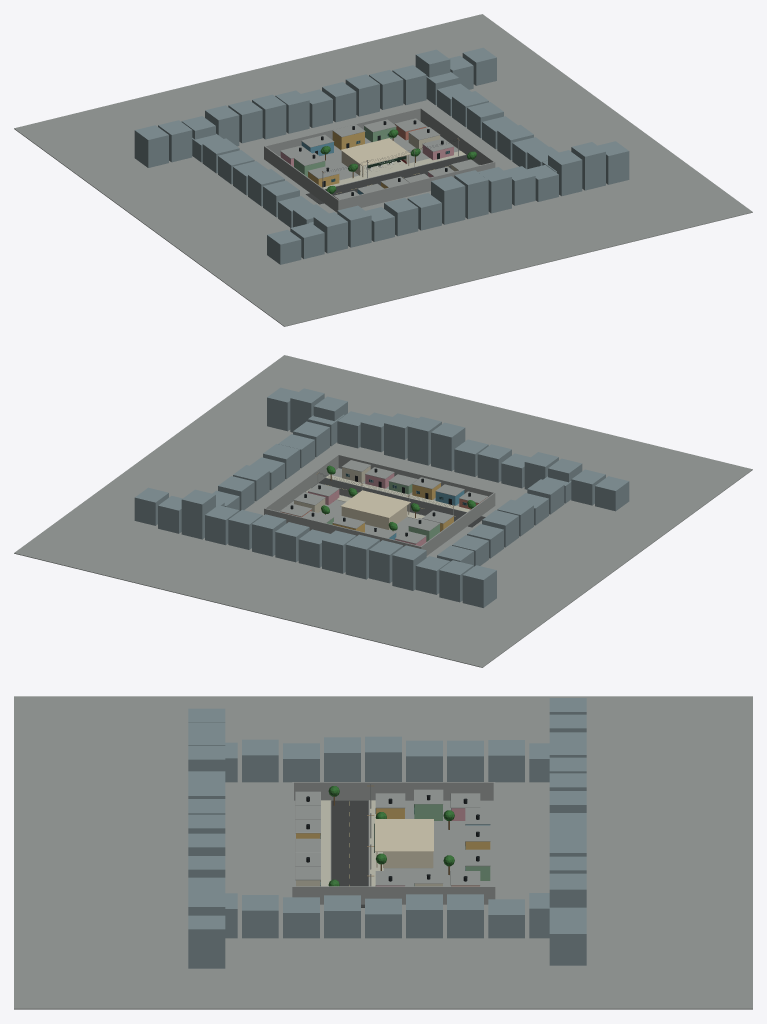
Rendered from colmado-el-bloke.glb.
The picture shows the model from 3 angles, top to bottom: view 1: azimuth 30°, elevation 25°; view 2: azimuth 150°, elevation 25°; view 3: azimuth 270°, elevation 25°; orthographic projection. The views are drawn at different scales.
Visible parts, largest first — view 1: Grupo estatico — Cemento, Grupo estatico — Edificios lejanos, Grupo estatico — Paredes crema, Calle del barrio, Grupo estatico — Ceramica clara, Grupo estatico — Casa mostaza, Grupo estatico — Casa verde; view 2: Grupo estatico — Cemento, Grupo estatico — Edificios lejanos, Grupo estatico — Paredes crema, Calle del barrio, Grupo estatico — Ceramica clara; view 3: Grupo estatico — Cemento, Grupo estatico — Edificios lejanos, Calle del barrio, Grupo estatico — Paredes crema, Grupo estatico — Ceramica clara, Grupo estatico — Casa verde, Grupo estatico — Casa mostaza, Grupo estatico — Hojas verdes.
Boxes of the visible parts, x1,y1,x2,y2 form: Grupo estatico — Cemento: (14, 14, 752, 326); Grupo estatico — Edificios lejanos: (134, 47, 629, 264); Grupo estatico — Paredes crema: (340, 138, 410, 177); Calle del barrio: (306, 155, 479, 204); Grupo estatico — Ceramica clara: (322, 151, 480, 188); Grupo estatico — Casa mostaza: (308, 131, 387, 188); Grupo estatico — Casa verde: (294, 126, 396, 176); Grupo estatico — Cemento: (14, 355, 752, 667); Grupo estatico — Edificios lejanos: (134, 387, 629, 607); Grupo estatico — Paredes crema: (340, 490, 410, 529); Calle del barrio: (312, 478, 485, 527); Grupo estatico — Ceramica clara: (306, 474, 470, 519); Grupo estatico — Cemento: (14, 696, 752, 1009); Grupo estatico — Edificios lejanos: (188, 698, 586, 968); Calle del barrio: (331, 800, 368, 907); Grupo estatico — Paredes crema: (375, 819, 433, 867); Grupo estatico — Ceramica clara: (320, 800, 432, 886); Grupo estatico — Casa verde: (414, 804, 490, 880); Grupo estatico — Casa mostaza: (296, 808, 490, 849); Grupo estatico — Hojas verdes: (328, 786, 454, 886).
Size of the model in its own units: 180 by 15.93 by 180.
